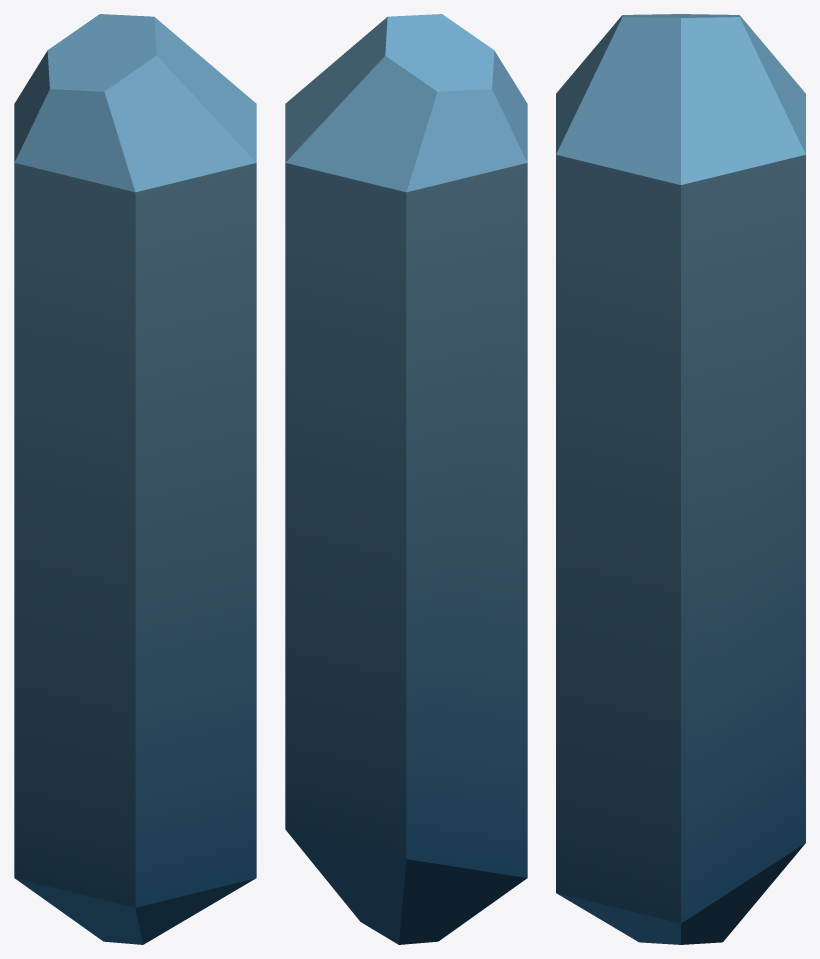
Rendered from geology-crystals-icecrystal_v10.fbx.
The picture shows the model from 3 angles, left to right: view 1: azimuth 30°, elevation 25°; view 2: azimuth 150°, elevation 25°; view 3: azimuth 270°, elevation 25°; orthographic projection. The views are drawn at different scales.
Parts seen in each view (by area): view 1: IceCrystal_v10; view 2: IceCrystal_v10; view 3: IceCrystal_v10.
Boxes of the visible parts, <box> form: IceCrystal_v10: <box>14,14,256,944</box>; IceCrystal_v10: <box>285,14,527,944</box>; IceCrystal_v10: <box>556,14,805,944</box>.
Bounding box in the file's own units: 1.48 × 5.33 × 1.28.
